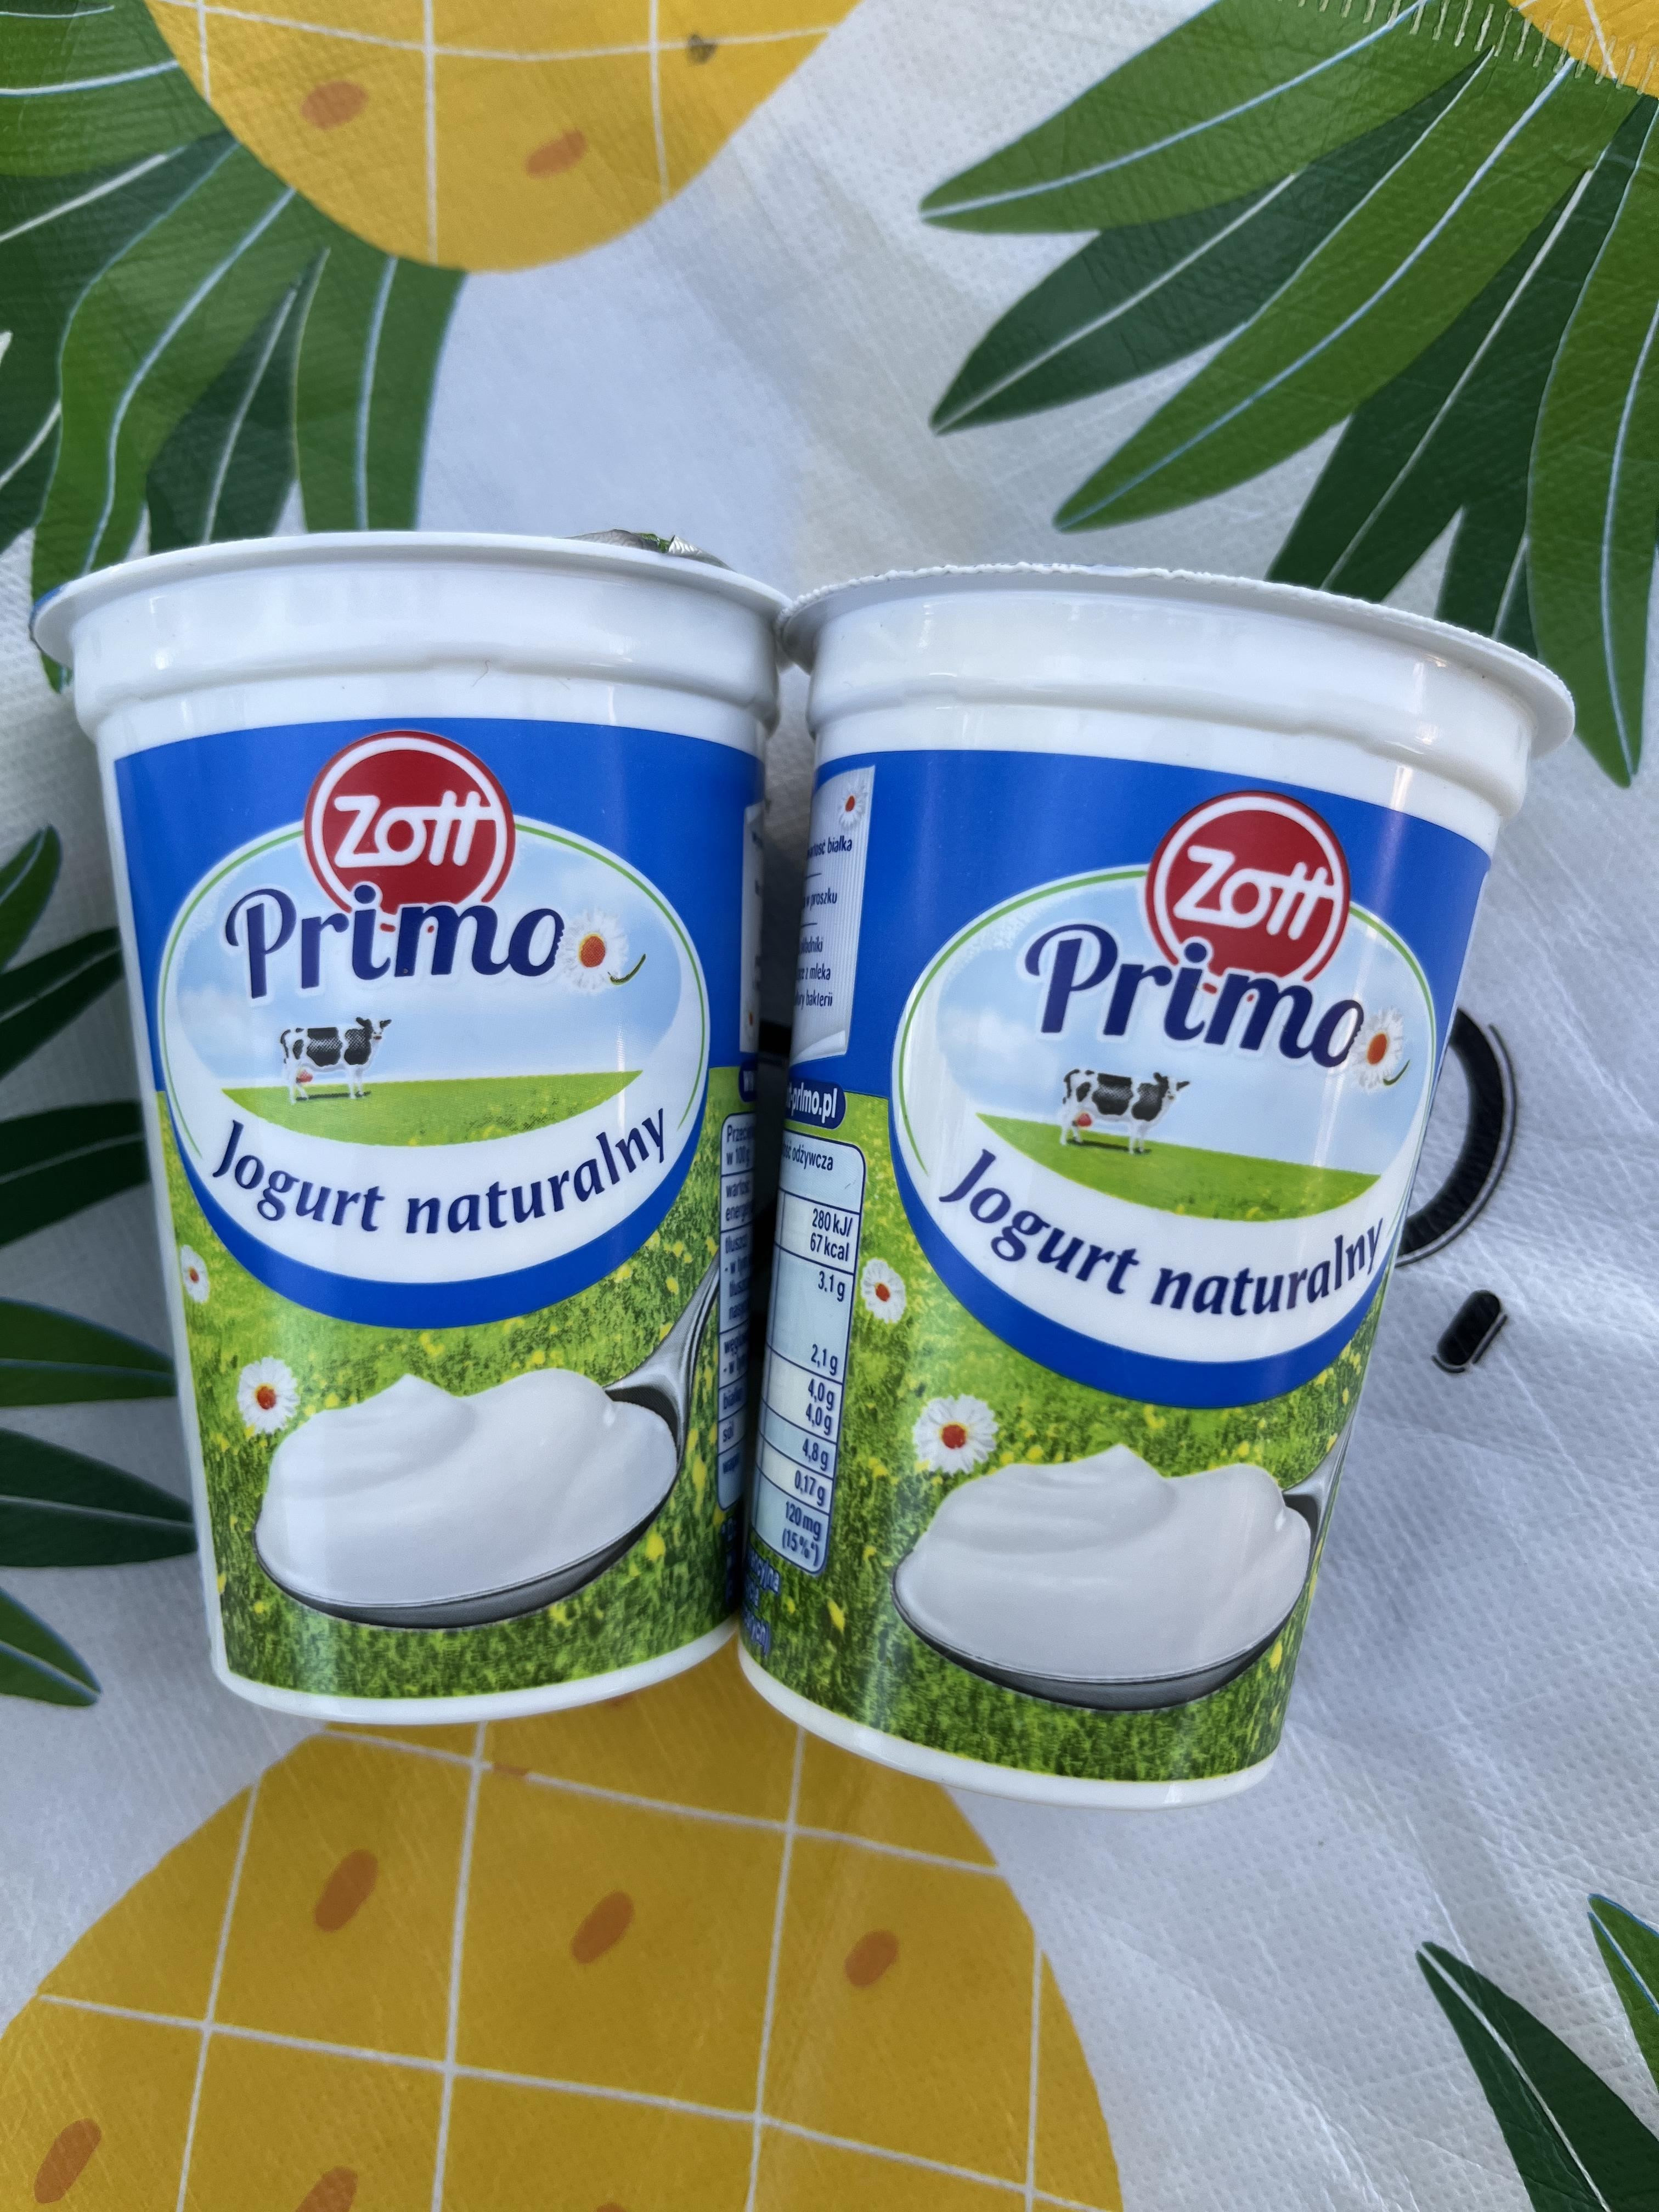Yogurt: (786, 542, 1464, 1785), (92, 519, 775, 1721)
